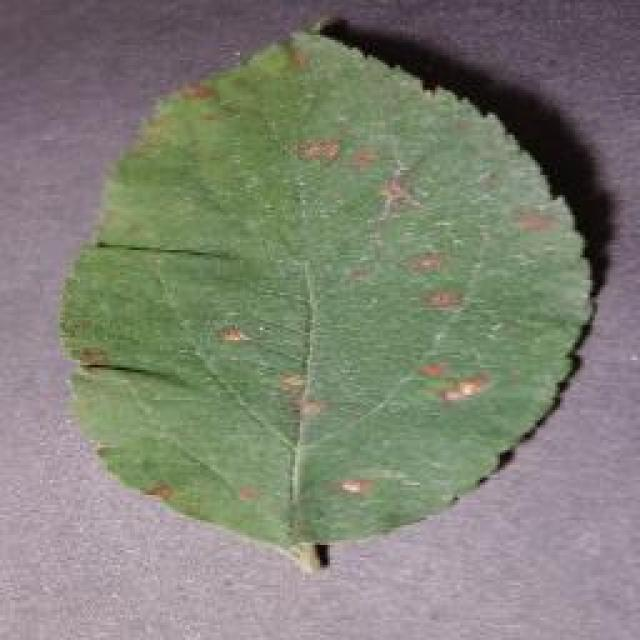apple scab disease: (55, 12, 603, 572)
